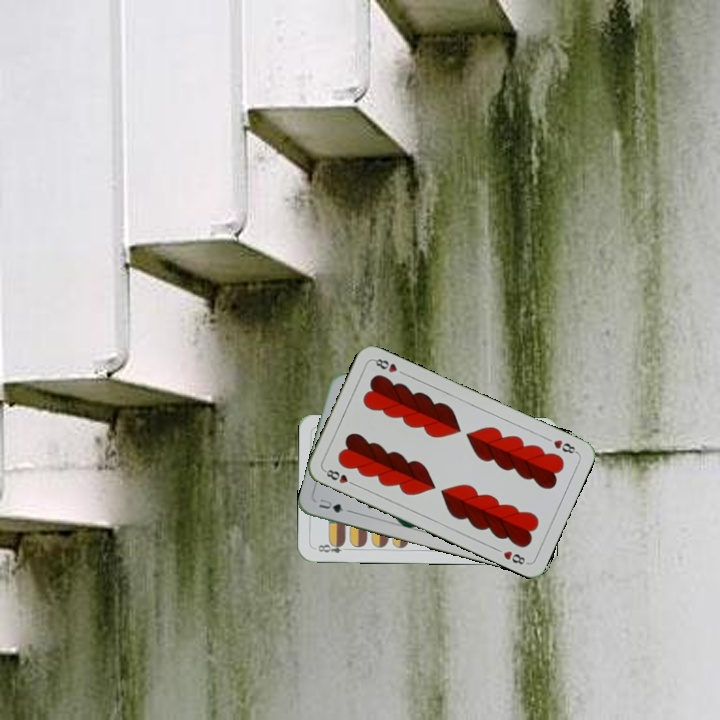E8: (314, 538, 352, 555)
GU: (315, 495, 352, 515)
H8: (320, 465, 359, 488), (549, 435, 580, 456)
